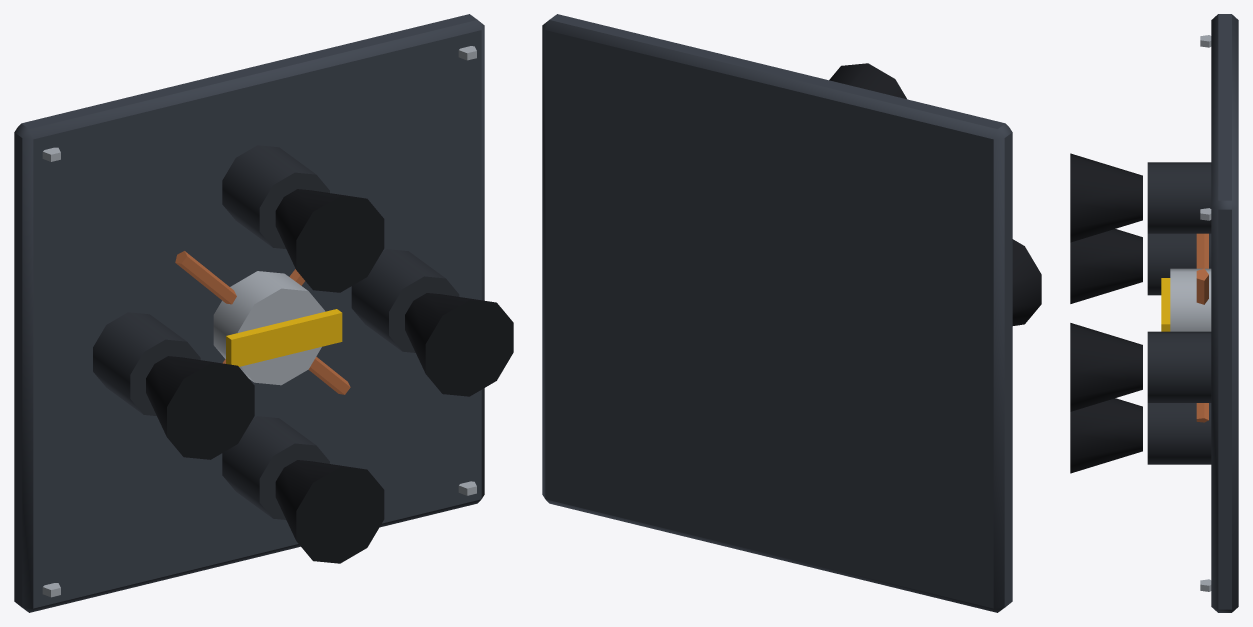
File: nozzle_rcs_thruster_cluster.glb
3 renders of one model, left to right at view 1: azimuth 30°, elevation 25°; view 2: azimuth 150°, elevation 25°; view 3: azimuth 270°, elevation 25°, orthographic. The views are drawn at different scales.
Parts seen in each view (by area): view 1: nozzle_rcs_thruster_cluster; view 2: nozzle_rcs_thruster_cluster; view 3: nozzle_rcs_thruster_cluster.
Boxes of the visible parts, <box> form: nozzle_rcs_thruster_cluster: <box>14,14,513,612</box>; nozzle_rcs_thruster_cluster: <box>542,14,1041,612</box>; nozzle_rcs_thruster_cluster: <box>1070,14,1238,612</box>.
Size of the model in its own units: 1 by 1 by 0.37.
